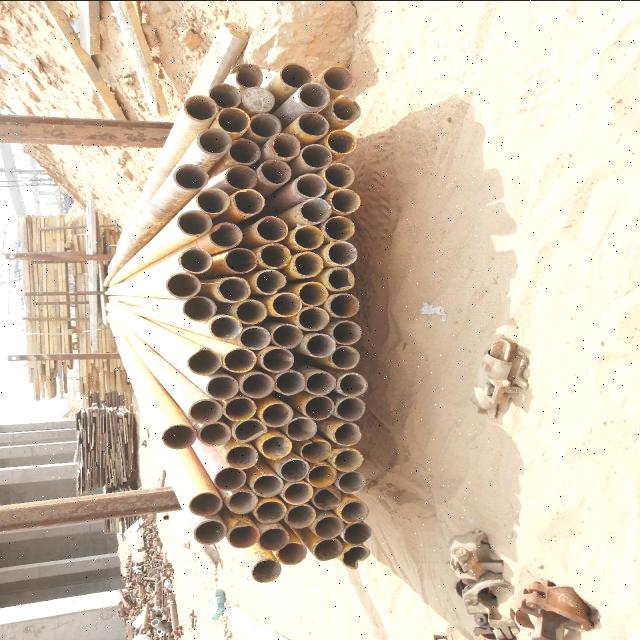pipe: (189, 518, 231, 546), (226, 134, 264, 164), (184, 347, 224, 375), (177, 242, 213, 272), (230, 186, 266, 216), (214, 105, 250, 135), (187, 488, 225, 516), (258, 346, 296, 374), (255, 157, 293, 185), (274, 61, 312, 89), (294, 81, 332, 109), (267, 288, 303, 317), (175, 209, 215, 235), (184, 397, 224, 423), (252, 242, 292, 268), (165, 270, 202, 298), (224, 395, 258, 425), (269, 130, 303, 160), (172, 162, 208, 190), (225, 523, 261, 551), (240, 370, 276, 398), (254, 212, 290, 240), (222, 162, 260, 188), (322, 238, 357, 266), (197, 421, 234, 447), (210, 464, 247, 490), (242, 83, 276, 111), (328, 186, 362, 214), (326, 291, 360, 319), (306, 514, 344, 539), (206, 81, 242, 107), (292, 220, 324, 249), (233, 418, 270, 443), (197, 126, 230, 154), (223, 346, 256, 374), (223, 245, 256, 273), (162, 422, 196, 449), (336, 498, 371, 524), (252, 268, 288, 293), (296, 110, 328, 138), (294, 170, 326, 198), (306, 462, 338, 490), (217, 275, 250, 302), (182, 94, 216, 120), (249, 472, 283, 498), (233, 297, 267, 323), (196, 186, 230, 212), (230, 62, 264, 88), (284, 503, 318, 529), (290, 250, 324, 276), (303, 395, 337, 421), (321, 64, 355, 90), (322, 214, 356, 240), (222, 444, 258, 468), (329, 420, 362, 446), (329, 96, 362, 122), (185, 294, 215, 322), (312, 485, 342, 513), (306, 367, 336, 395), (280, 480, 318, 502), (329, 447, 367, 469), (227, 488, 259, 514), (258, 523, 290, 549), (238, 324, 270, 350), (248, 111, 280, 137), (273, 369, 305, 395), (299, 142, 331, 168), (296, 280, 328, 306), (310, 539, 342, 565), (260, 433, 292, 459), (248, 558, 282, 582), (260, 401, 294, 425), (278, 458, 312, 482), (297, 197, 331, 221), (295, 306, 329, 330), (208, 314, 240, 339), (338, 371, 368, 397), (206, 374, 238, 398), (210, 222, 242, 246), (272, 323, 304, 347), (274, 541, 306, 565), (334, 469, 366, 493), (334, 395, 366, 419), (302, 438, 334, 462), (304, 332, 336, 356), (324, 127, 356, 151), (322, 162, 354, 186), (322, 266, 354, 290), (331, 319, 361, 344), (254, 500, 288, 522), (332, 344, 359, 370), (290, 416, 318, 440), (340, 546, 370, 568), (342, 521, 372, 543)
